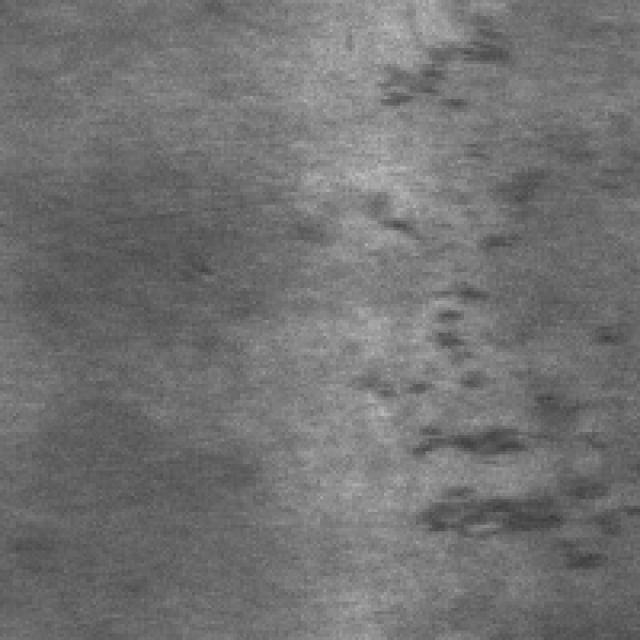rolled-in_scale: (371, 212, 627, 566), (372, 0, 502, 109)
